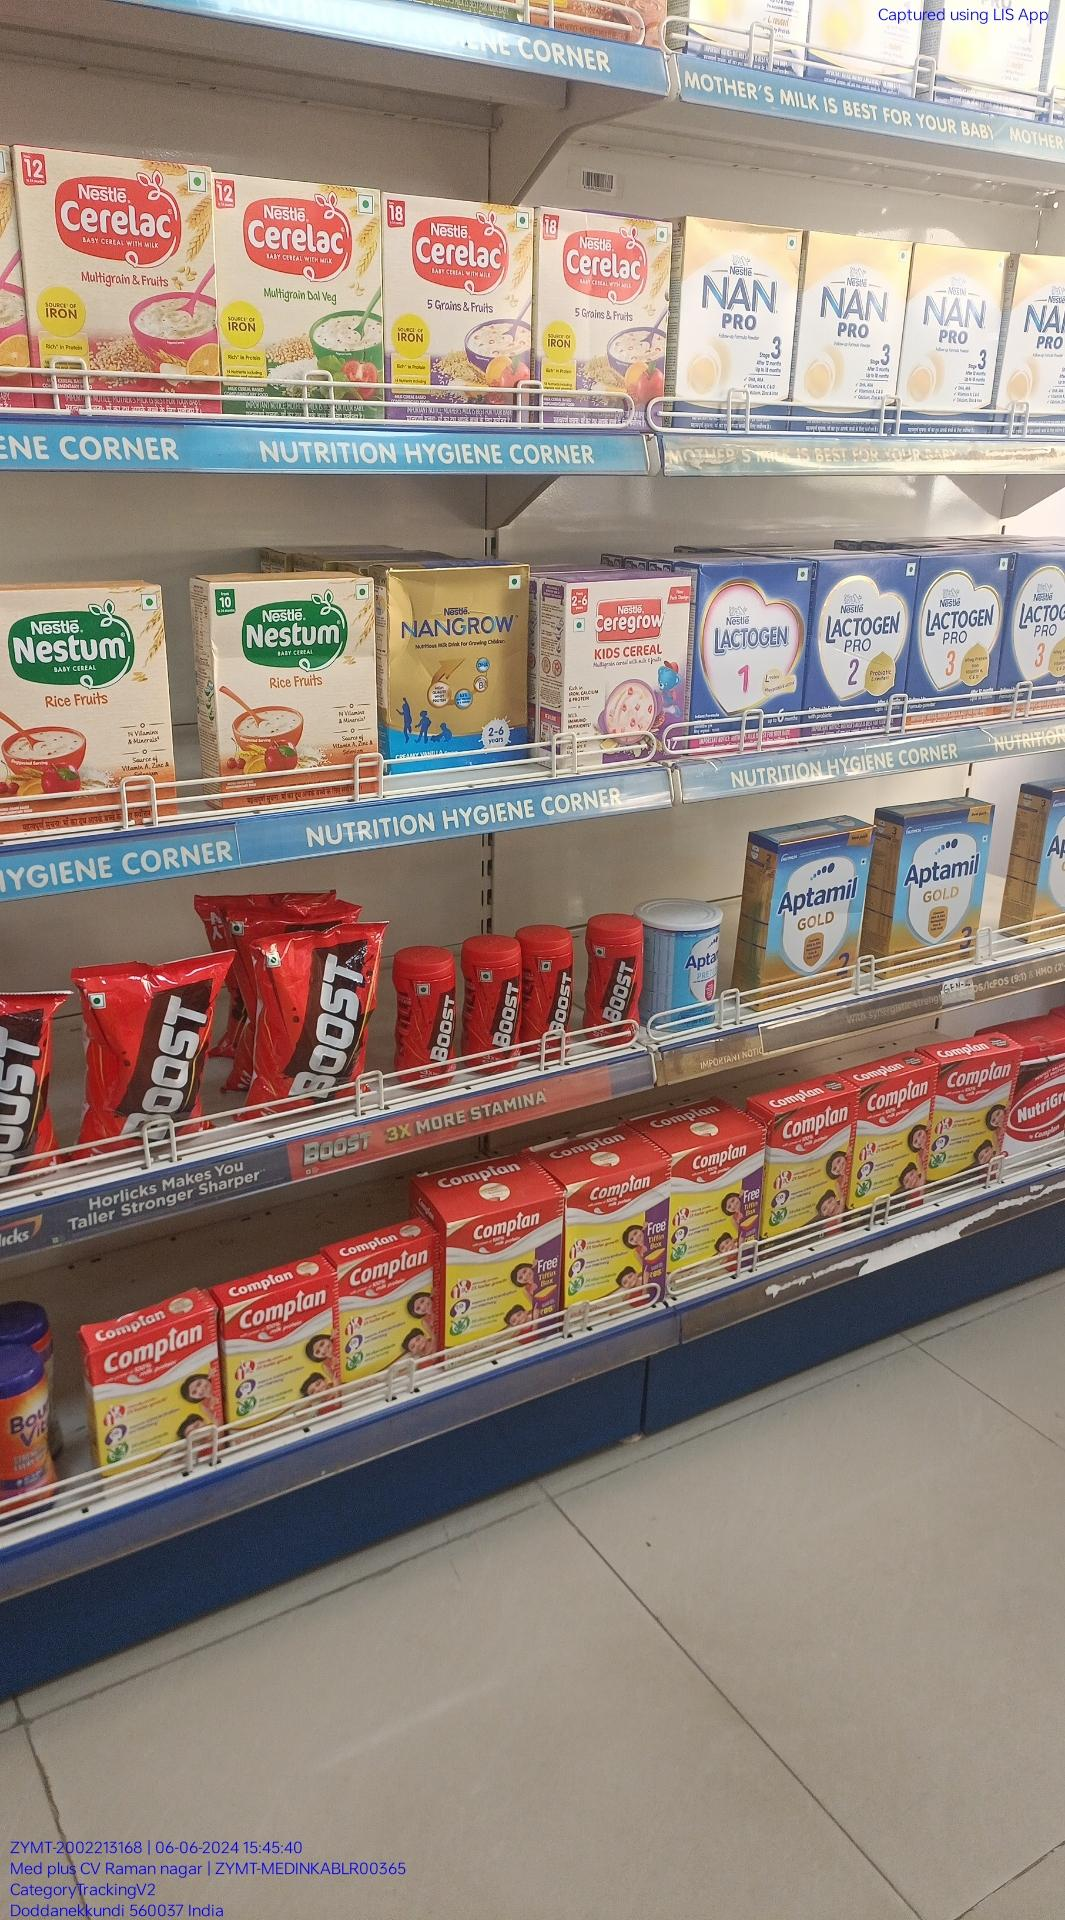COMPLAN_KESAR_BADAM_200_GMS_PACK: (93, 1319, 218, 1479), (230, 1284, 337, 1443)
